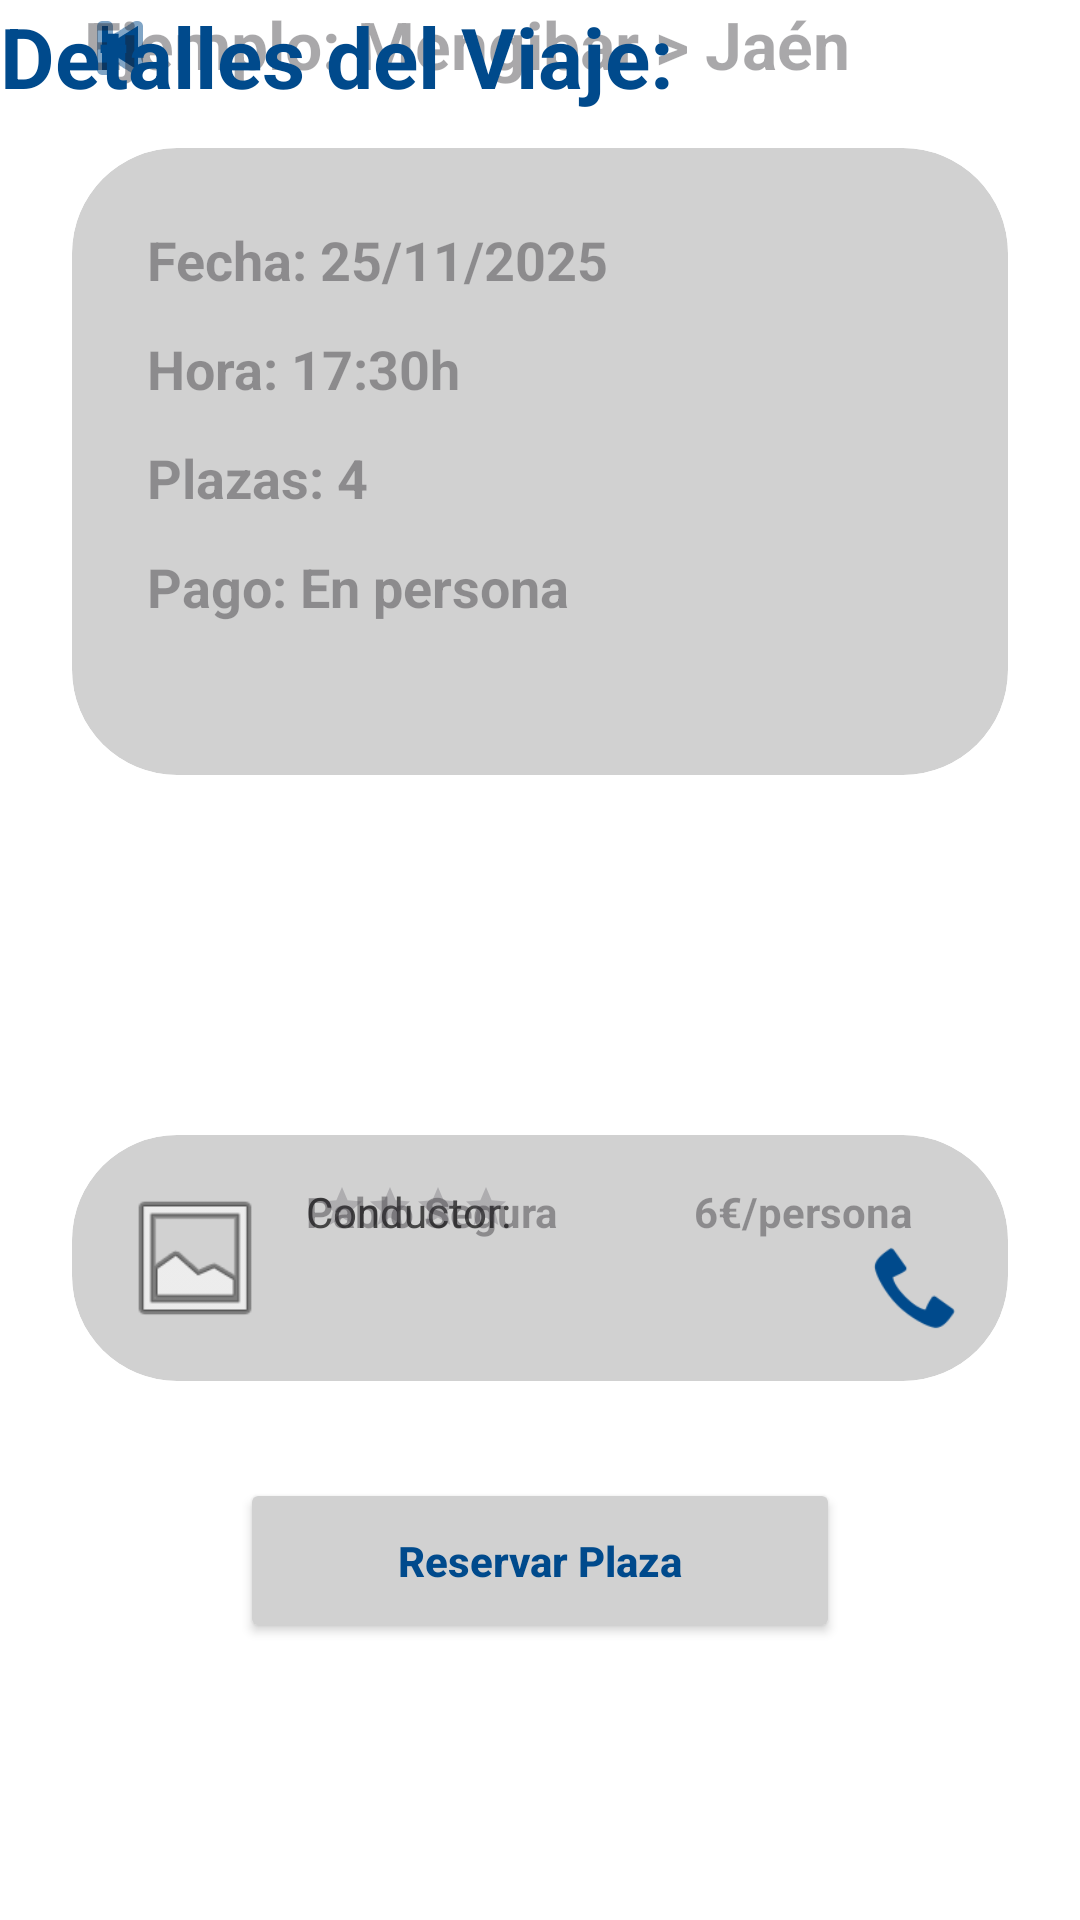

Point at icon controls on the screen. Image size 1080×1920, points as [x,y].
gallery: [195,1258]
phone call: [914,1288]
